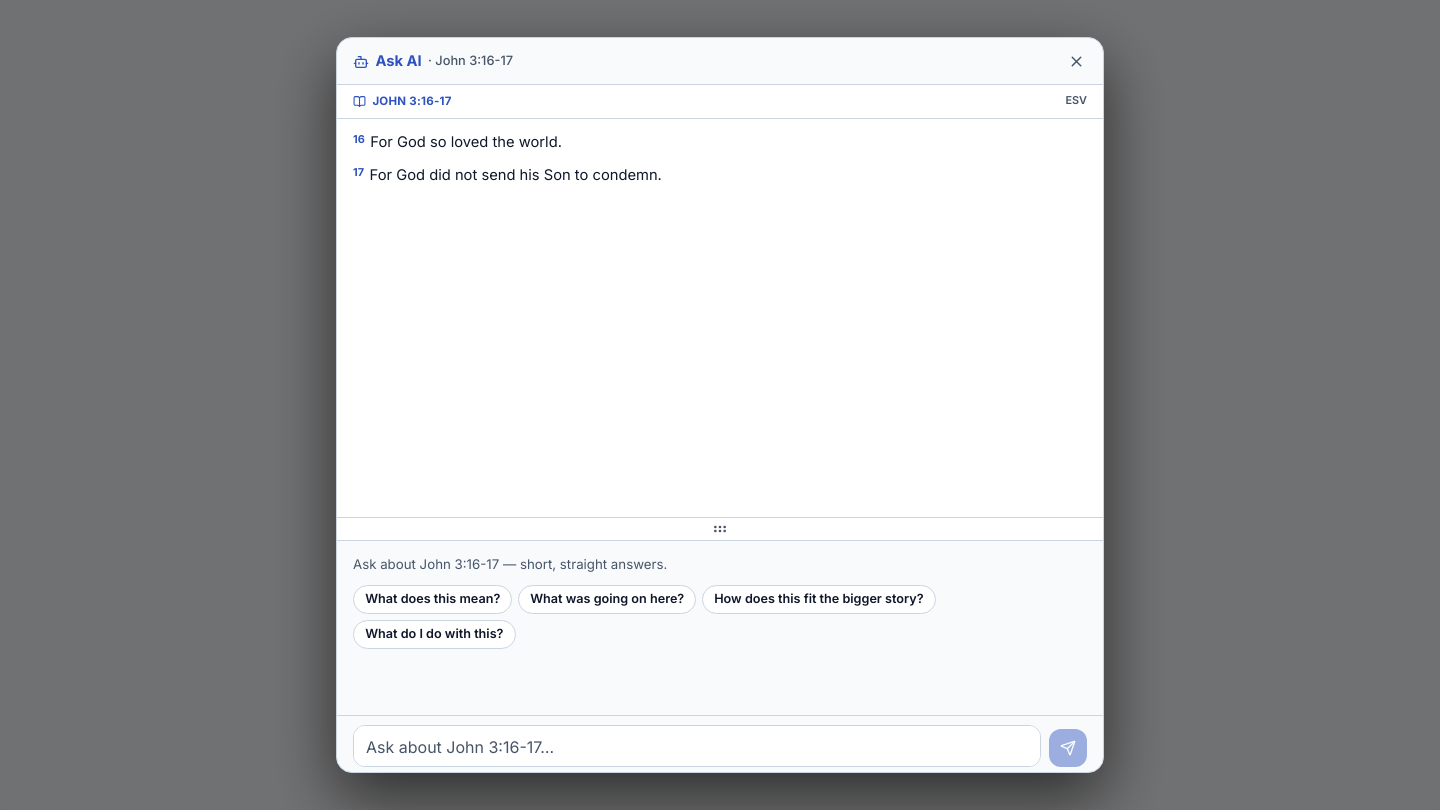
Scenario: AskAiPanel › renders a bulleted answer as a list rather than a run of dashes
Type "Summarise?" into the text box named "ask a question".
click(697, 746); type("Summarise?")  # box [353,725,1041,767]
Then press Enter
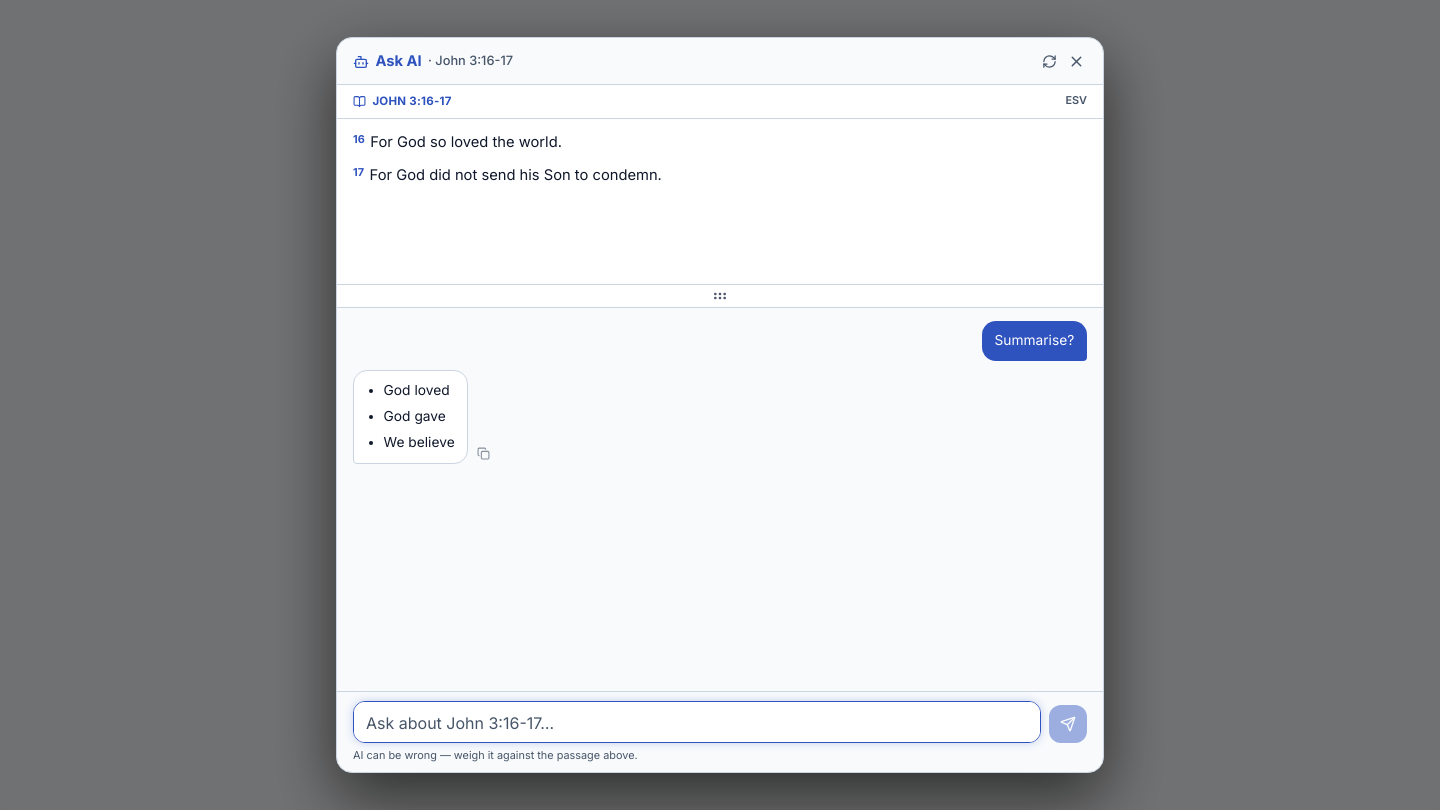
Expected: the list item "God loved" is shown, [384,379,455,402]
Expected: the number of list items is 3, [384,379,455,402]; [384,405,455,428]; [384,431,455,454]
